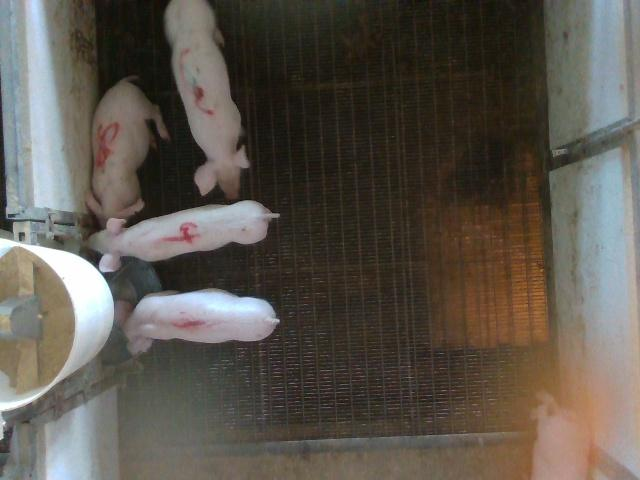pig-1: (115, 289, 279, 354)
pig-3: (165, 0, 249, 199)
pig-4: (88, 200, 279, 271)
pig-5: (88, 76, 170, 224)
